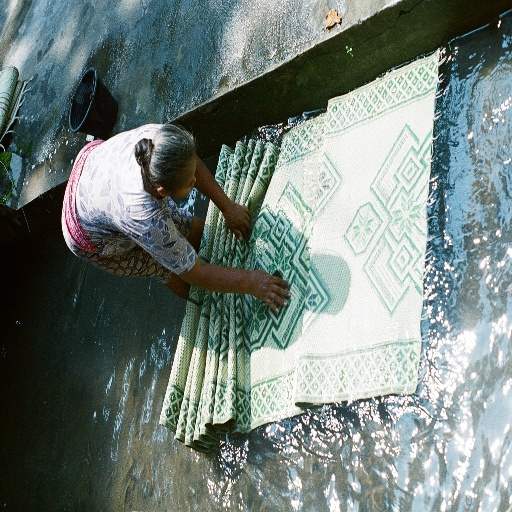hand: (252, 271, 296, 316), (226, 198, 253, 243)
